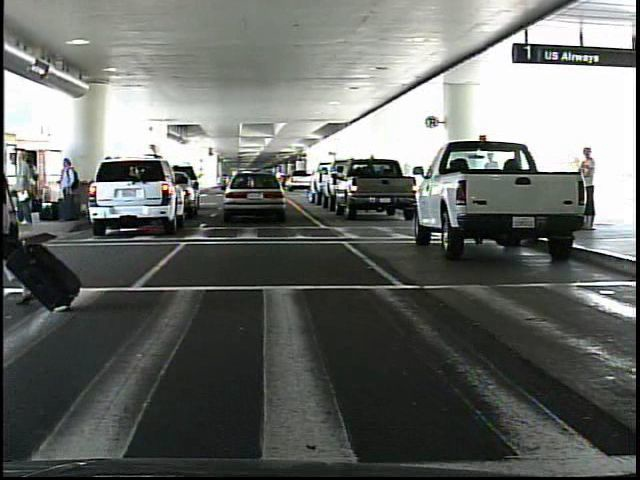person: (570, 147, 603, 232), (13, 150, 39, 226), (55, 157, 78, 224)
